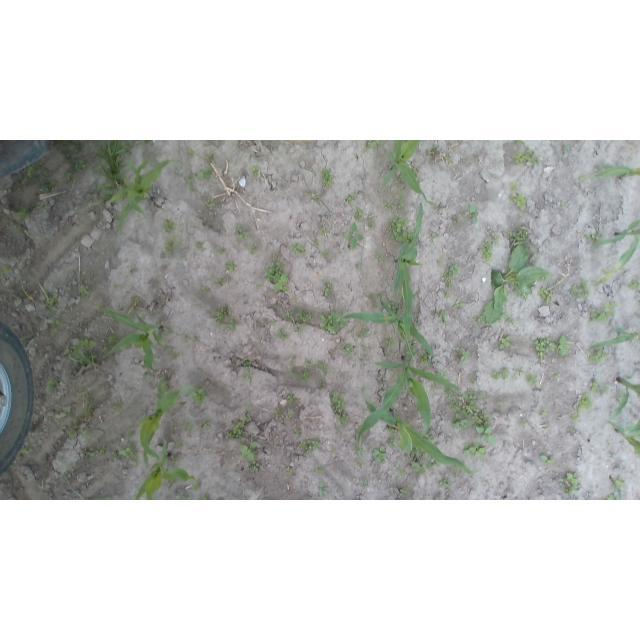Maize: (354, 395, 482, 478), (356, 351, 465, 447), (341, 295, 439, 364), (387, 203, 427, 367), (135, 376, 202, 469), (94, 302, 171, 382), (103, 156, 178, 231), (378, 140, 438, 208), (132, 441, 201, 500), (591, 218, 640, 289), (609, 372, 640, 423), (579, 160, 640, 184), (586, 328, 640, 353), (607, 421, 640, 456)
Weeds: (480, 227, 553, 326), (445, 388, 494, 432), (96, 140, 130, 185), (63, 338, 99, 367), (266, 253, 289, 292), (571, 392, 596, 424), (213, 305, 241, 333), (318, 308, 349, 333), (285, 307, 313, 333), (238, 440, 260, 472), (345, 223, 370, 251), (330, 391, 351, 424), (388, 216, 413, 243), (92, 183, 117, 208), (604, 474, 627, 500), (559, 469, 581, 495), (534, 336, 556, 361), (429, 144, 453, 166), (512, 147, 540, 165), (440, 264, 460, 289), (298, 436, 323, 456), (43, 290, 67, 310), (570, 278, 591, 300), (37, 173, 58, 194), (475, 425, 496, 446), (161, 236, 183, 256), (464, 443, 487, 462), (586, 348, 611, 365), (508, 192, 529, 212), (224, 421, 246, 440), (556, 334, 570, 360), (118, 445, 138, 463), (590, 379, 611, 396), (468, 203, 481, 229), (588, 307, 609, 323), (53, 402, 74, 418), (242, 358, 256, 382), (26, 161, 46, 177), (540, 286, 555, 307), (86, 445, 108, 459), (372, 446, 388, 465), (321, 167, 335, 188), (192, 388, 209, 405), (583, 230, 601, 246), (61, 144, 79, 160), (481, 242, 495, 262), (538, 453, 558, 467), (76, 493, 115, 500), (603, 301, 618, 319), (409, 461, 428, 475), (455, 348, 471, 364), (196, 167, 213, 182), (319, 279, 333, 297), (353, 206, 367, 224), (19, 445, 35, 460), (340, 342, 356, 357), (162, 219, 179, 233), (241, 405, 252, 426), (204, 198, 219, 213), (51, 320, 66, 335), (291, 242, 306, 257), (165, 346, 179, 362), (45, 376, 59, 392), (184, 174, 197, 191), (262, 317, 279, 330), (501, 313, 515, 328), (397, 193, 408, 212), (364, 141, 383, 152), (104, 334, 121, 346), (523, 373, 537, 387), (2, 263, 14, 279), (399, 486, 416, 497), (438, 309, 451, 323), (214, 278, 228, 291), (359, 325, 372, 339), (500, 337, 512, 352), (248, 243, 263, 255), (421, 352, 434, 365), (225, 261, 238, 274), (343, 192, 357, 204), (197, 418, 212, 429), (77, 285, 92, 296), (63, 170, 76, 182), (540, 408, 553, 420), (385, 437, 398, 449), (277, 328, 289, 341), (629, 279, 640, 293), (37, 199, 48, 213), (18, 209, 32, 220), (317, 362, 328, 376), (508, 182, 523, 192), (451, 300, 466, 310), (205, 151, 220, 161), (359, 477, 371, 489), (366, 219, 378, 231), (301, 372, 312, 385), (354, 447, 366, 458), (283, 409, 295, 420), (559, 143, 569, 156), (238, 228, 248, 241), (83, 410, 93, 423), (440, 479, 453, 489), (179, 332, 195, 340), (320, 483, 328, 499), (112, 404, 126, 413), (384, 201, 395, 212), (201, 285, 212, 296), (288, 356, 299, 367), (389, 300, 400, 311), (201, 216, 211, 228), (196, 242, 206, 254), (66, 429, 78, 439), (424, 461, 436, 471), (430, 231, 439, 244), (319, 228, 332, 237), (354, 263, 367, 272), (386, 335, 394, 349), (250, 163, 261, 173), (188, 149, 199, 159), (355, 459, 365, 470), (387, 425, 398, 435), (304, 359, 314, 370), (287, 392, 298, 402), (374, 251, 384, 262), (516, 368, 525, 380), (65, 465, 77, 474), (272, 406, 281, 418), (500, 368, 508, 381), (560, 197, 570, 207), (75, 157, 85, 167), (285, 467, 295, 477), (491, 370, 500, 381), (412, 449, 423, 458), (398, 469, 407, 480), (439, 289, 451, 297), (492, 235, 501, 245), (474, 315, 483, 325), (164, 327, 174, 336), (81, 429, 90, 439), (156, 316, 166, 325), (170, 456, 180, 465), (184, 421, 193, 431), (335, 427, 344, 437), (338, 372, 348, 381), (215, 246, 226, 254), (126, 427, 134, 438), (202, 492, 213, 500), (288, 369, 296, 380), (180, 493, 192, 500), (314, 466, 323, 475), (176, 439, 185, 448), (321, 251, 330, 260), (514, 140, 527, 146), (72, 418, 79, 429), (320, 380, 328, 389), (496, 402, 505, 410), (312, 240, 320, 249), (471, 376, 478, 386), (294, 428, 302, 436), (552, 374, 559, 382), (440, 372, 447, 380), (430, 386, 438, 393), (332, 445, 339, 453), (454, 471, 461, 478), (58, 457, 66, 463), (295, 327, 303, 333), (448, 259, 455, 265), (438, 259, 444, 265), (570, 427, 575, 434), (440, 475, 445, 480)
